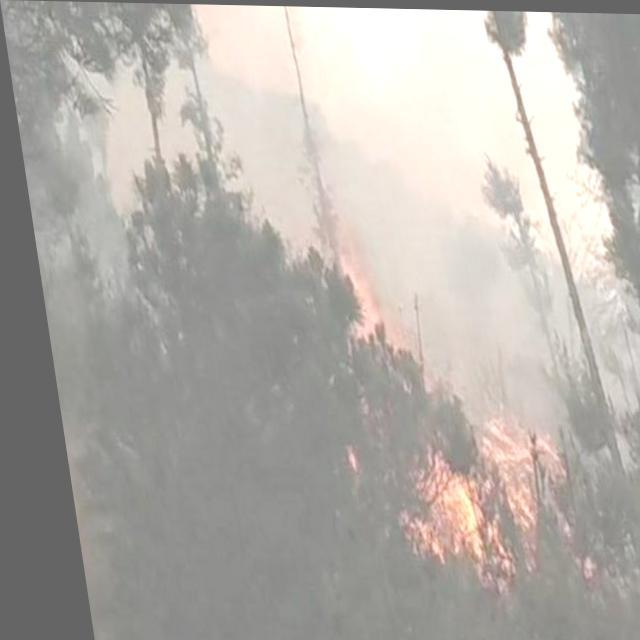Fire: (313, 244, 552, 590)
